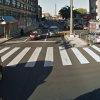Crosswalk: (3, 41, 100, 78)
